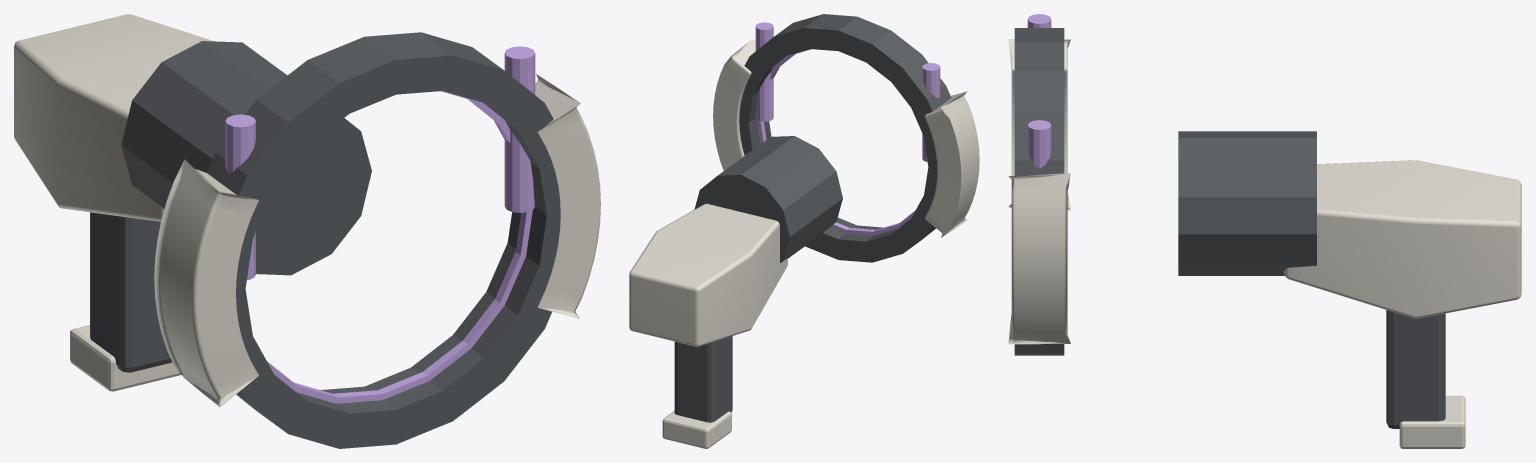
Rendered from PushLens.fbx.
3 renders of one model, left to right at view 1: azimuth 30°, elevation 25°; view 2: azimuth 150°, elevation 25°; view 3: azimuth 270°, elevation 25°, orthographic. The views are drawn at different scales.
Parts seen in each view (by area): view 1: OpenLensFrame, Neck, Receiver, LensGuard, PalmGrip, LensGuard.001, InnerField, FieldPost.001, GripHeel, FieldPost; view 2: Receiver, OpenLensFrame, Neck, LensGuard, PalmGrip, LensGuard.001, GripHeel, FieldPost.001, InnerField, FieldPost; view 3: Receiver, Neck, LensGuard.001, OpenLensFrame, PalmGrip, GripHeel, LensGuard, FieldPost.001.
Part boxes in pixels (left/top/right/bottom): OpenLensFrame: left=207, top=32, right=560, bottom=448; Neck: left=121, top=41, right=371, bottom=275; Receiver: left=14, top=14, right=213, bottom=221; LensGuard: left=154, top=159, right=258, bottom=407; PalmGrip: left=90, top=212, right=172, bottom=372; LensGuard.001: left=535, top=74, right=600, bottom=319; InnerField: left=267, top=91, right=532, bottom=403; FieldPost.001: left=504, top=46, right=535, bottom=212; GripHeel: left=70, top=325, right=181, bottom=391; FieldPost: left=225, top=114, right=255, bottom=280; Receiver: left=629, top=203, right=787, bottom=346; OpenLensFrame: left=739, top=14, right=951, bottom=262; Neck: left=694, top=136, right=842, bottom=263; LensGuard: left=925, top=91, right=979, bottom=237; PalmGrip: left=674, top=336, right=732, bottom=422; LensGuard.001: left=713, top=39, right=755, bottom=170; GripHeel: left=662, top=411, right=731, bottom=448; FieldPost.001: left=755, top=22, right=773, bottom=121; InnerField: left=757, top=49, right=915, bottom=235; FieldPost: left=922, top=63, right=940, bottom=161; Receiver: left=1284, top=160, right=1521, bottom=318; Neck: left=1178, top=131, right=1316, bottom=275; LensGuard.001: left=1008, top=173, right=1070, bottom=344; OpenLensFrame: left=1014, top=28, right=1064, bottom=355; PalmGrip: left=1386, top=310, right=1445, bottom=428; GripHeel: left=1399, top=395, right=1465, bottom=448; LensGuard: left=1008, top=39, right=1070, bottom=210; FieldPost.001: left=1027, top=120, right=1051, bottom=168.
Size of the model in its own units: 0.566 by 0.6575 by 0.7775.
